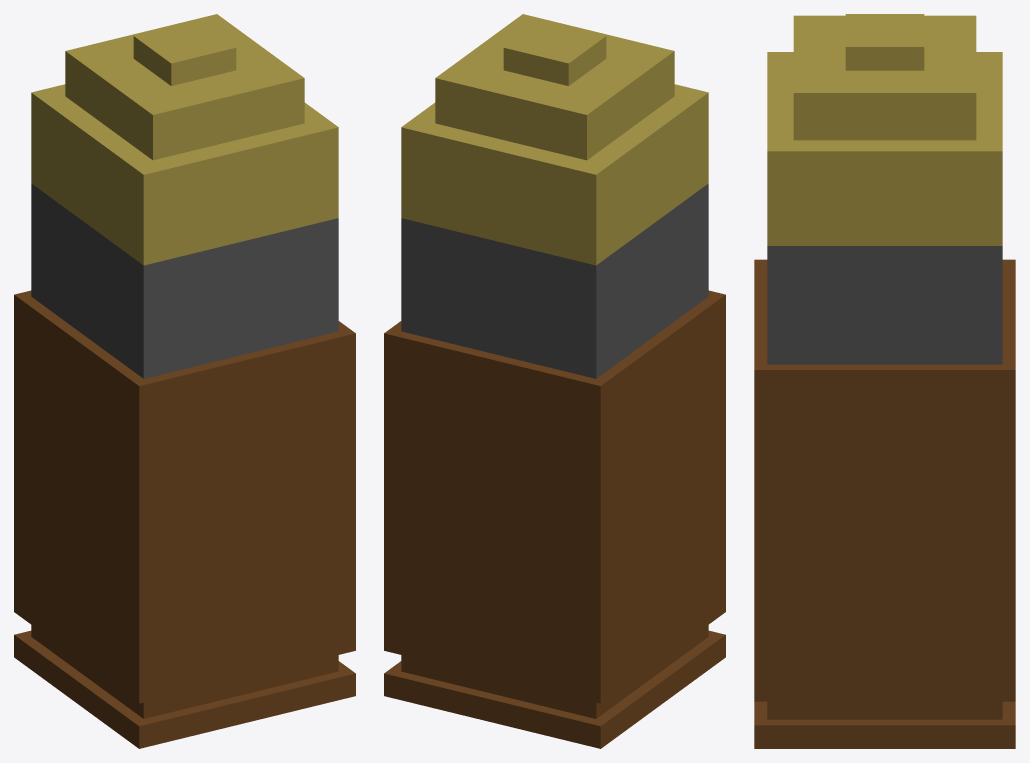
Rendered from ammo_granade.fbx.
3 renders of one model, left to right at view 1: azimuth 30°, elevation 25°; view 2: azimuth 150°, elevation 25°; view 3: azimuth 270°, elevation 25°, orthographic. The views are drawn at different scales.
Visible parts, largest first — view 1: ammo_granade_casing, ammo_granade_granade; view 2: ammo_granade_casing, ammo_granade_granade; view 3: ammo_granade_casing, ammo_granade_granade.
Part boxes in pixels (box(x1,y1,x2,y2)): ammo_granade_casing: box(14, 290, 355, 748); ammo_granade_granade: box(31, 14, 338, 378); ammo_granade_casing: box(384, 290, 725, 748); ammo_granade_granade: box(401, 14, 708, 378); ammo_granade_casing: box(754, 259, 1015, 748); ammo_granade_granade: box(767, 14, 1002, 364).
Size of the model in its own units: 6 by 16.8 by 6.
